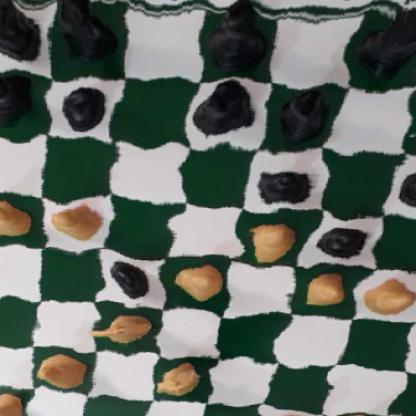black-bishop: (192, 81, 265, 142), (272, 85, 342, 143)
black-king: (206, 0, 282, 77)
black-knight: (48, 0, 123, 63)
black-pawn: (246, 160, 319, 211), (57, 85, 119, 134), (314, 217, 377, 260), (106, 254, 161, 298), (0, 72, 41, 123), (394, 161, 416, 209)
black-rook: (358, 0, 416, 79), (0, 0, 47, 65)
white-bishop: (34, 354, 91, 393)
white-king: (316, 411, 388, 416)
white-knight: (93, 307, 156, 348), (155, 362, 209, 394)
white-pawn: (233, 218, 304, 259), (47, 199, 102, 243), (298, 267, 356, 308), (360, 275, 416, 316), (174, 261, 229, 301), (0, 198, 32, 239), (407, 327, 416, 372)
white-rook: (0, 388, 29, 416), (257, 415, 317, 416)
